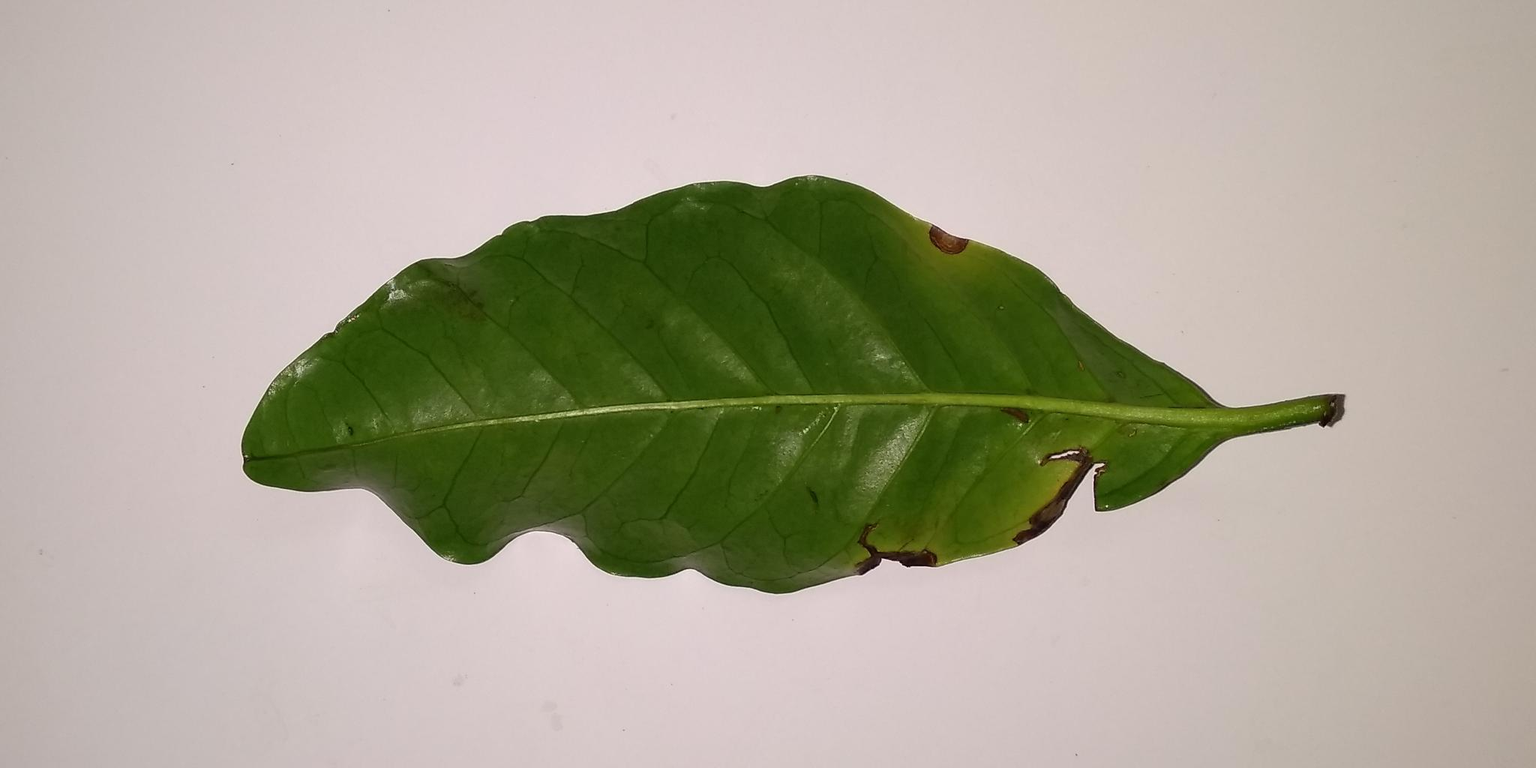Cercospora: (914, 208, 982, 276)
